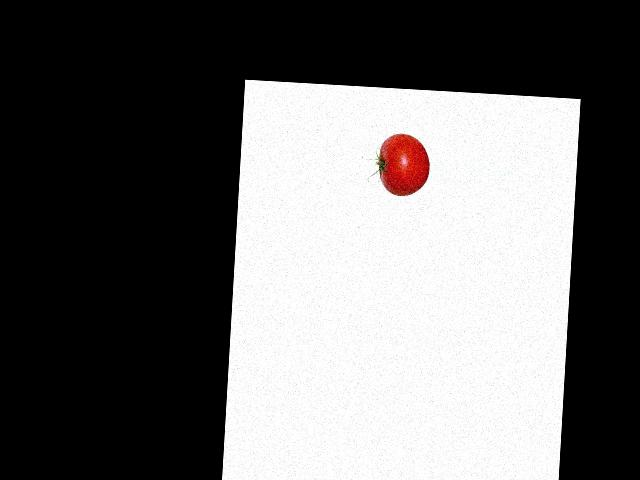tomato: (376, 131, 431, 197)
